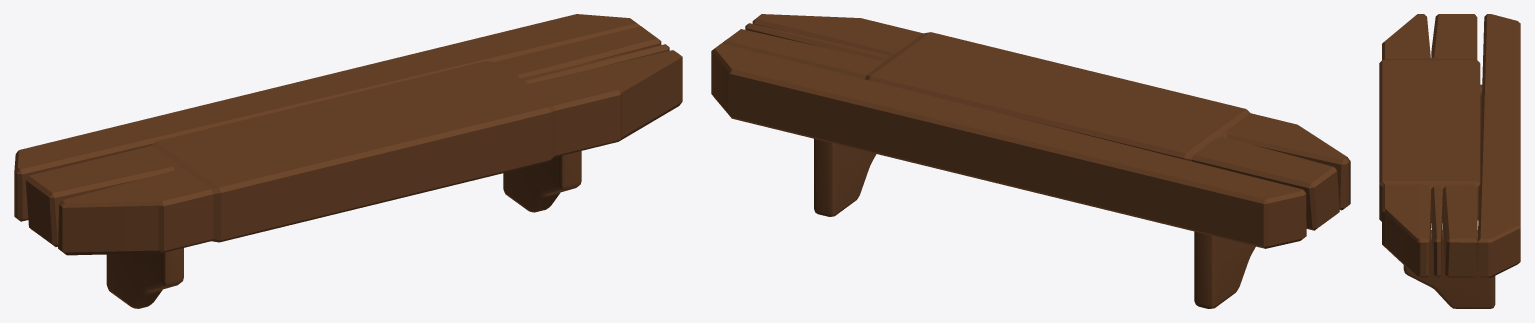
The model's file is Shelf0.fbx.
3 views of the same model, side by side, from view 1: azimuth 30°, elevation 25°; view 2: azimuth 150°, elevation 25°; view 3: azimuth 270°, elevation 25° (orthographic). The views are drawn at different scales.
Visible parts, largest first — view 1: Shelf0; view 2: Shelf0; view 3: Shelf0.
Part boxes in pixels (x1,y1,x2,y2): Shelf0: (14,14,682,308); Shelf0: (711,14,1350,308); Shelf0: (1379,14,1520,308).
Bounding box in the file's own units: 12.49 × 2.86 × 3.29.
Materials: 1 (1 with a texture image).
